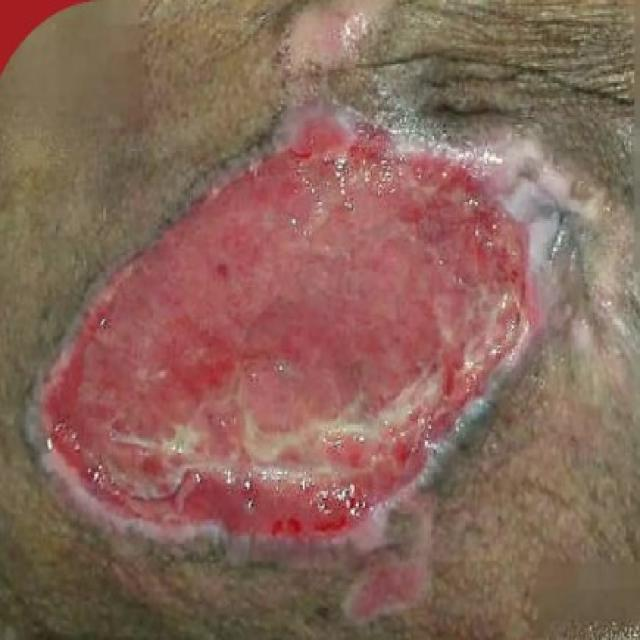stage-3: (48, 120, 534, 540)
